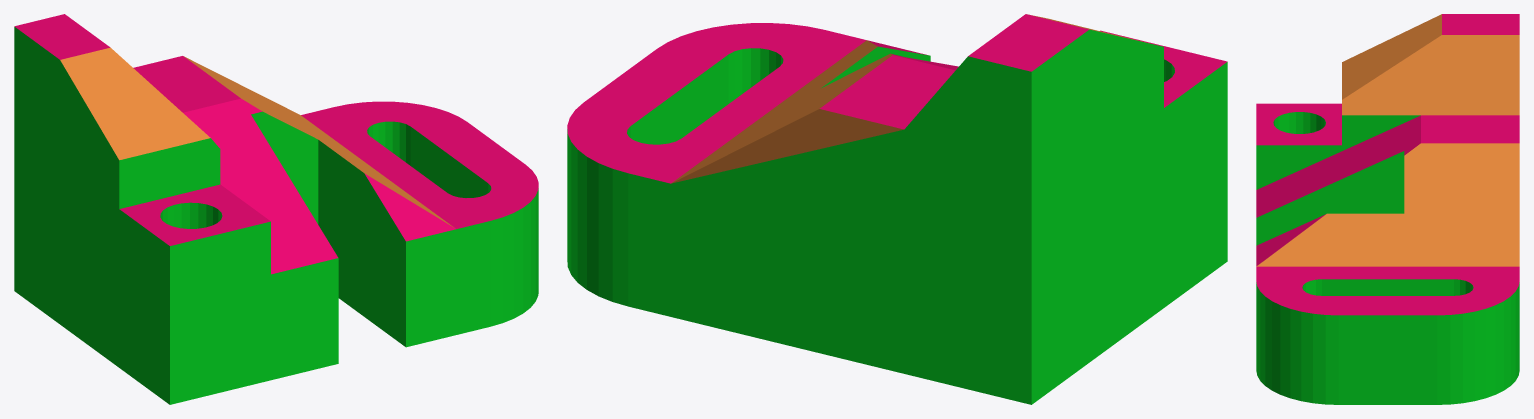
File: Model Q2D code.gltf
The picture shows the model from 3 angles, left to right: view 1: azimuth 30°, elevation 25°; view 2: azimuth 150°, elevation 25°; view 3: azimuth 270°, elevation 25°; orthographic projection. The views are drawn at different scales.
Parts seen in each view (by area): view 1: Model Q2D; view 2: Model Q2D; view 3: Model Q2D.
Part boxes in pixels (left/top/right/bottom): Model Q2D: left=14, top=14, right=538, bottom=404; Model Q2D: left=567, top=14, right=1227, bottom=404; Model Q2D: left=1256, top=14, right=1519, bottom=404.
Bounding box in the file's own units: 12 × 7.5 × 8.
